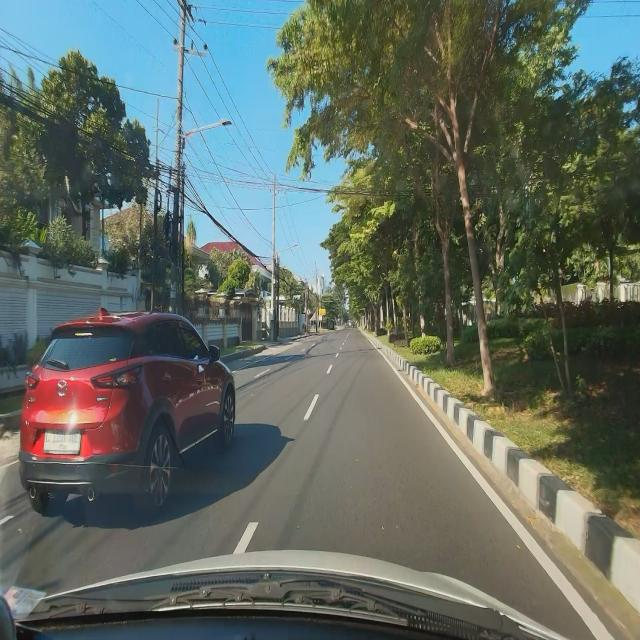car: (17, 304, 241, 520)
license-plate: (43, 428, 82, 454)
